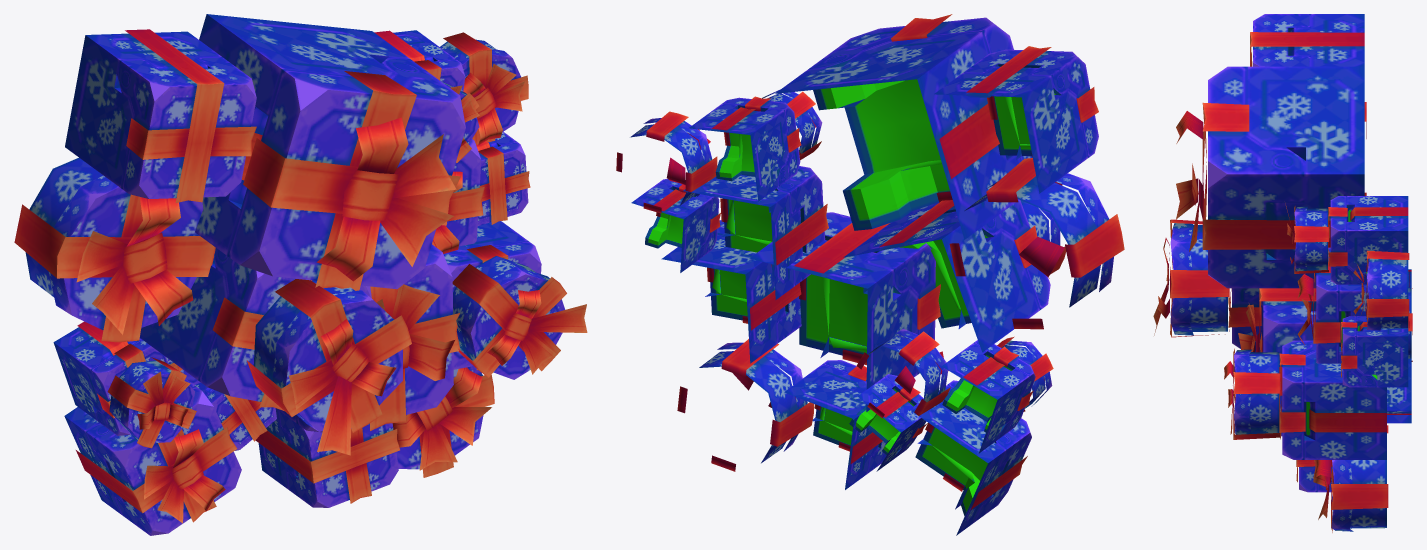
File: compound_pile-grn.glb
3 renders of one model, left to right at view 1: azimuth 30°, elevation 25°; view 2: azimuth 150°, elevation 25°; view 3: azimuth 270°, elevation 25°, orthographic. The views are drawn at different scales.
Visible parts, largest first — view 1: winterbox.model_pile-Mesh[1] (×4), winterbox.model_pile-Mesh[0] (×4); view 2: winterbox.model_pile-Mesh[1] (×4), winterbox.model_pile-Mesh[0] (×4); view 3: winterbox.model_pile-Mesh[1] (×4), winterbox.model_pile-Mesh[0] (×4).
Boxes of the visible parts, <box> form: winterbox.model_pile-Mesh[1] (×4): <box>14,14,541,535</box>; winterbox.model_pile-Mesh[0] (×4): <box>65,29,587,507</box>; winterbox.model_pile-Mesh[1] (×4): <box>616,14,1124,535</box>; winterbox.model_pile-Mesh[0] (×4): <box>631,46,1098,489</box>; winterbox.model_pile-Mesh[1] (×4): <box>1176,66,1412,532</box>; winterbox.model_pile-Mesh[0] (×4): <box>1153,14,1411,492</box>.
Size of the model in its own units: 4.25 by 3.95 by 2.36.
1 material, 1 textured.
